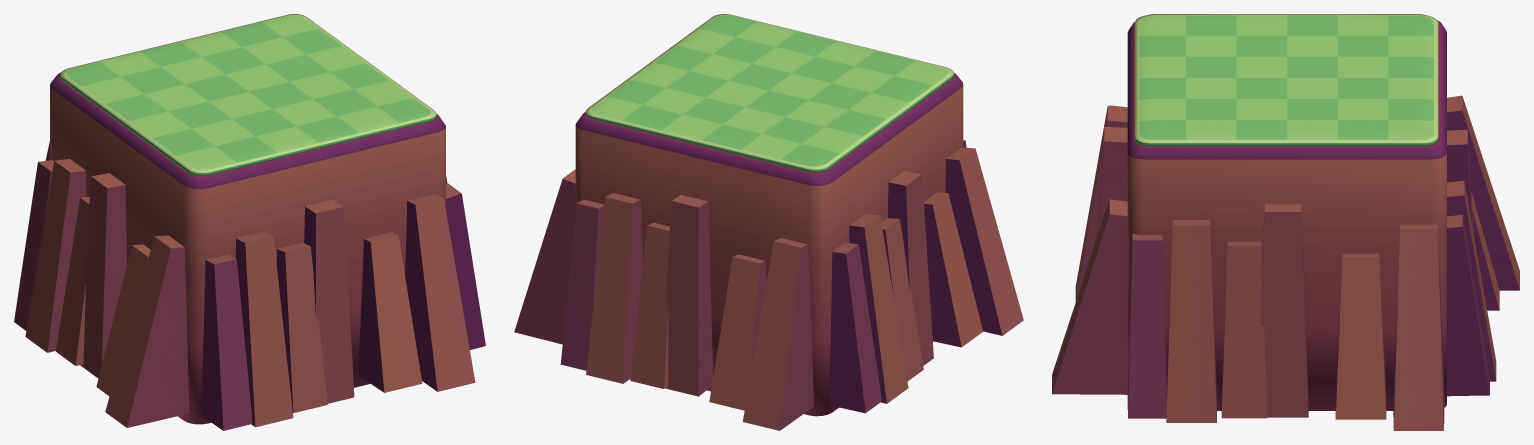
File: SM_Env_Cliff.fbx
The picture shows the model from 3 angles, left to right: view 1: azimuth 30°, elevation 25°; view 2: azimuth 150°, elevation 25°; view 3: azimuth 270°, elevation 25°; orthographic projection. The views are drawn at different scales.
Visible parts, largest first — view 1: Cube.006, Platform Soil 18.001, Platform Grass 18.001; view 2: Cube.006, Platform Soil 18.001, Platform Grass 18.001; view 3: Cube.006, Platform Soil 18.001, Platform Grass 18.001.
Boxes of the visible parts, x1=… form: Cube.006: x1=14, y1=141, x2=485, y2=430; Platform Soil 18.001: x1=50, y1=72, x2=445, y2=424; Platform Grass 18.001: x1=60, y1=14, x2=436, y2=175; Cube.006: x1=514, y1=140, x2=1023, y2=430; Platform Soil 18.001: x1=575, y1=72, x2=963, y2=416; Platform Grass 18.001: x1=585, y1=14, x2=953, y2=172; Cube.006: x1=1052, y1=95, x2=1519, y2=430; Platform Soil 18.001: x1=1127, y1=20, x2=1446, y2=410; Platform Grass 18.001: x1=1134, y1=14, x2=1438, y2=146.
Bounding box in the file's own units: 1754 × 1103 × 1758.
Materials: 3 (3 with a texture image).
